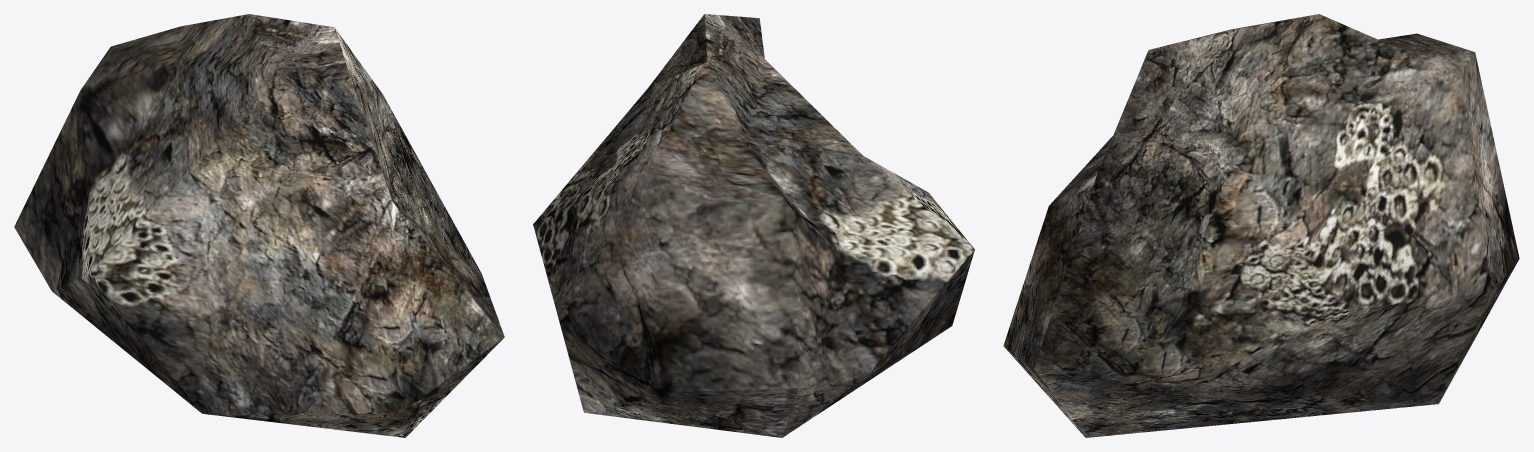
The model's file is pir_m_prp_dvj_rock_k.fbx.
3 views of the same model, side by side, from view 1: azimuth 30°, elevation 25°; view 2: azimuth 150°, elevation 25°; view 3: azimuth 270°, elevation 25° (orthographic). The views are drawn at different scales.
Visible parts, largest first — view 1: lod_high; view 2: lod_high; view 3: lod_high.
Boxes of the visible parts, x1=… form: lod_high: x1=14, y1=14, x2=504, y2=437; lod_high: x1=533, y1=14, x2=974, y2=437; lod_high: x1=1003, y1=14, x2=1519, y2=437.
Size of the model in its own units: 531 by 498 by 578.
1 material, 1 textured.
